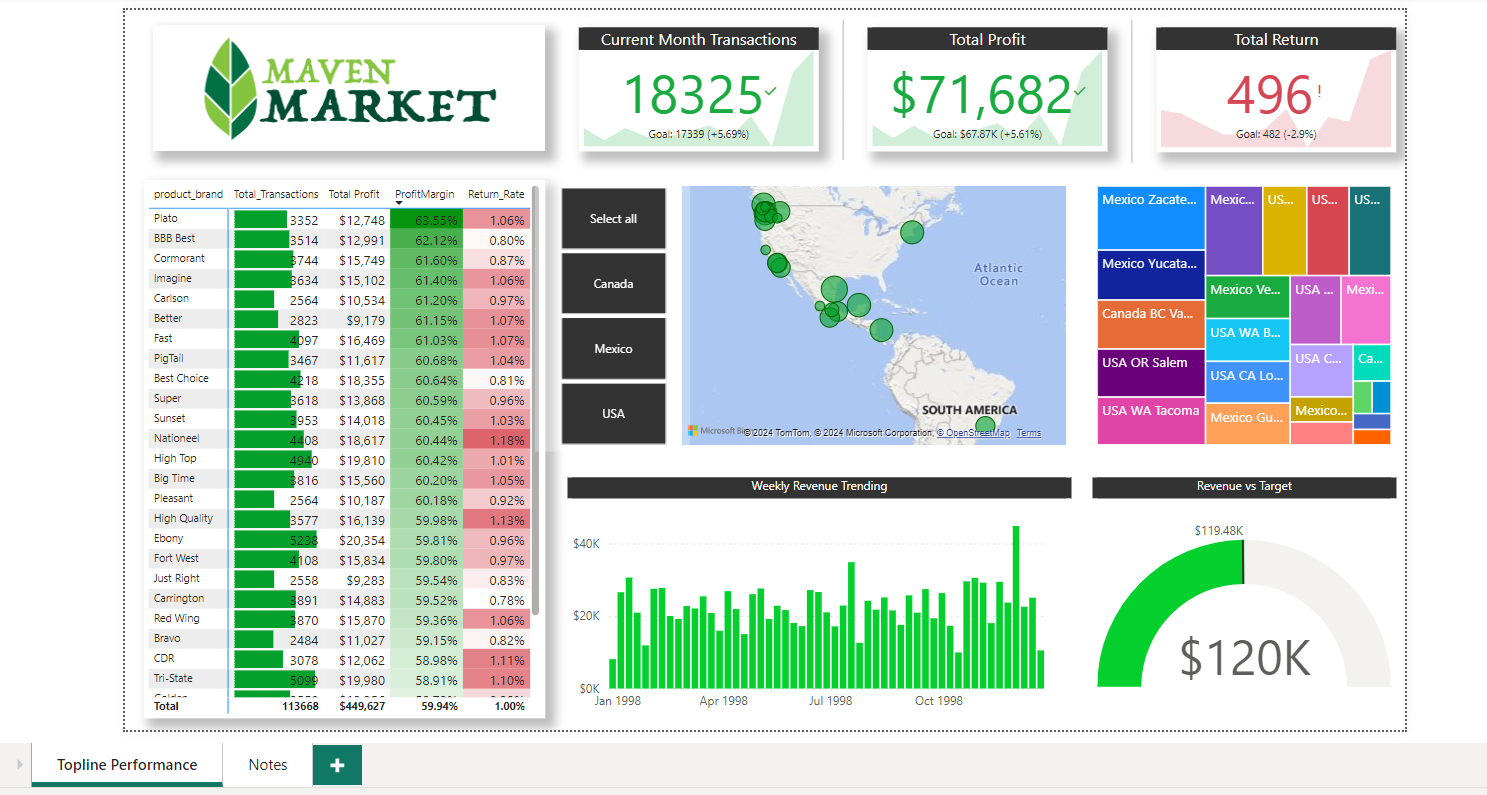

What the dashboard file says about the page in this screenshot:
{"tool":"powerbi","page":{"name":"Topline Performance","canvas":[1280,720],"ordinal":0},"visuals":[{"type":"image","box":[27.5,15,392.5,126.2],"z":0},{"type":"pivotTable","fields":{"Rows":["Products.product_brand"],"Values":["Transaction_Data.Total_Transactions","Transaction_Data.Total Profit","Transaction_Data.ProfitMargin","Return_Data.Return_Rate"]},"box":[18.8,170,401.2,538.8],"z":1000},{"type":"kpi","title":"Current Month Transactions","fields":{"TrendLine":["Calendar.Start of Month"],"Indicator":["Transaction_Data.Total_Transactions"],"Goal":["Transaction_Data.Last Month Transactions"]},"box":[454,18,240,124],"z":2000},{"type":"kpi","title":"Total Return","fields":{"Indicator":["Return_Data.Total_Returns"],"TrendLine":["Calendar.Start of Month"],"Goal":["Return_Data.Last Month Returns"]},"box":[1031.2,17.5,240,125],"z":3000},{"type":"kpi","title":"Total Profit","fields":{"TrendLine":["Calendar.Start of Month"],"Indicator":["Transaction_Data.Total Profit"],"Goal":["Transaction_Data.Last Month Profit"]},"box":[742.6,18,240,123.8],"z":4000},{"type":"map","fields":{"Category":["Stores.city"],"Size":["Transaction_Data.Total_Transactions"]},"box":[552.5,171.2,393.8,268.8],"z":5000},{"type":"slicer","fields":{"Values":["Stores.country/region"]},"box":[410,171.2,155,270],"z":6000},{"type":"treemap","fields":{"Values":["Transaction_Data.Total_Transactions"],"Group":["Stores.country/region","Stores.state/province","Stores.city"]},"box":[967.5,171.2,303.8,268.8],"z":7000},{"type":"columnChart","title":"Weekly Revenue Trending","fields":{"Y":["Transaction_Data.Total Revenue"],"Category":["Calendar.Start of Week"]},"box":[442.5,467.5,503.8,241.2],"z":8000},{"type":"gauge","title":"Revenue vs Target","fields":{"Y":["Transaction_Data.Total Revenue"],"TargetValue":["Transaction_Data.Revenue Target"]},"box":[967.5,467.5,303.8,230],"z":9000},{"type":"basicShape","box":[693.8,0,48.8,160],"z":10000},{"type":"basicShape","box":[982.5,0,48.8,162.5],"z":11000}]}

Visuals, with their boxes on the page's 1280x720 design canvas (x1, y1, x2, y2). These are canvas units, not pixel positions in the 1487x795 screenshot, which may show the page scaled, cropped or inside an application window:
image: BBox(28, 15, 420, 141)
pivotTable - Products.product_brand x Transaction_Data.Total_Transactions: BBox(19, 170, 420, 709)
"Current Month Transactions" kpi: BBox(454, 18, 694, 142)
"Total Return" kpi: BBox(1031, 18, 1271, 142)
"Total Profit" kpi: BBox(743, 18, 983, 142)
map - Stores.city x Transaction_Data.Total_Transactions: BBox(552, 171, 946, 440)
slicer - Stores.country/region: BBox(410, 171, 565, 441)
treemap - Transaction_Data.Total_Transactions x Stores.country/region: BBox(968, 171, 1271, 440)
"Weekly Revenue Trending" columnChart: BBox(442, 468, 946, 709)
"Revenue vs Target" gauge: BBox(968, 468, 1271, 698)
basicShape: BBox(694, 0, 743, 160)
basicShape: BBox(982, 0, 1031, 162)
